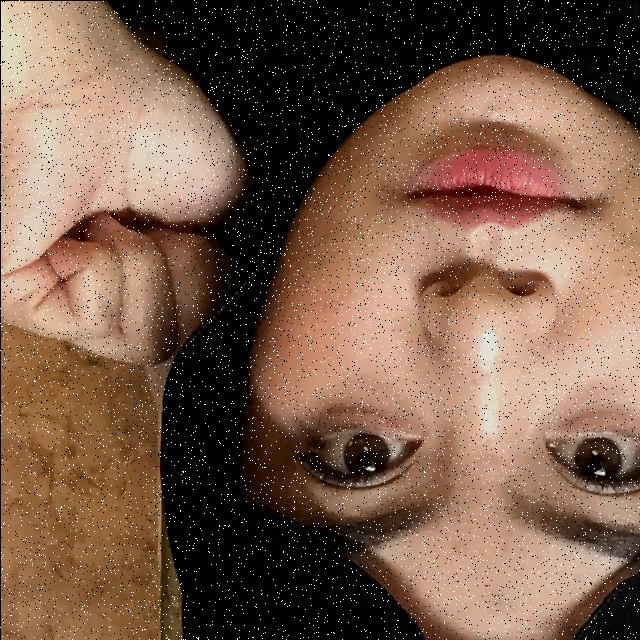ibu: (0, 0, 350, 404)
